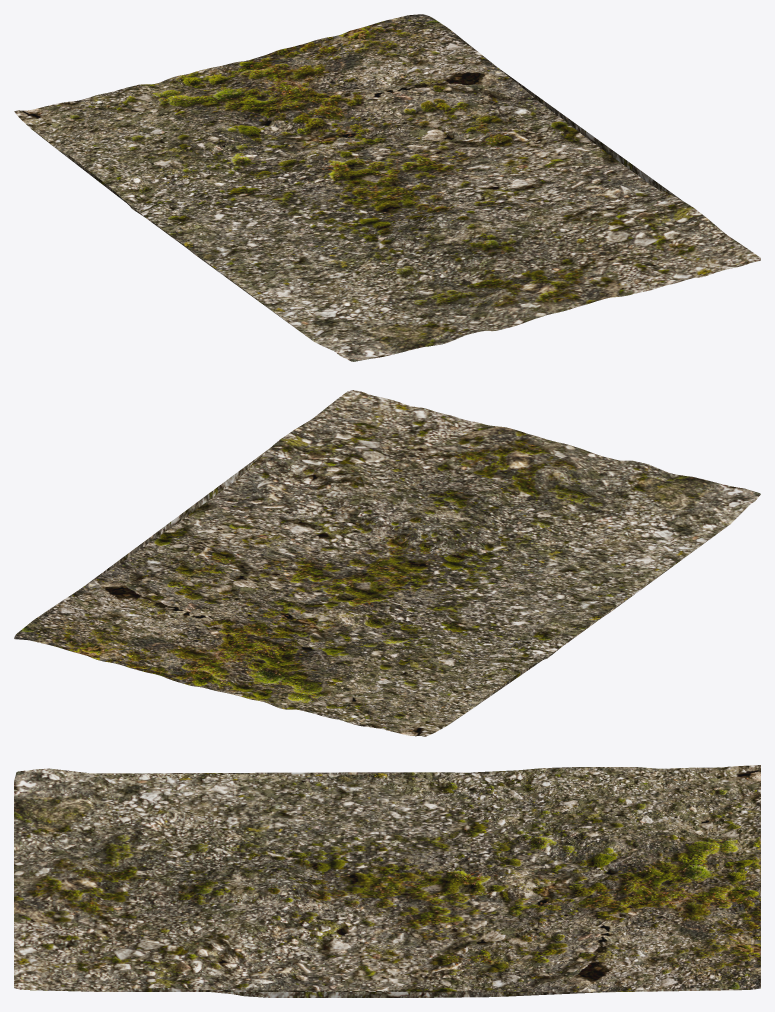
Rendered from riverbed.dae.
3 views of the same model, one above another, from view 1: azimuth 30°, elevation 25°; view 2: azimuth 150°, elevation 25°; view 3: azimuth 270°, elevation 25° (orthographic). The views are drawn at different scales.
Parts seen in each view (by area): view 1: riverbed; view 2: riverbed; view 3: riverbed.
Boxes of the visible parts, box(x1,y1,x2,y2) form: riverbed: box(14, 14, 760, 361); riverbed: box(14, 390, 760, 736); riverbed: box(14, 765, 760, 997).
Size of the model in its own units: 3001 by 4236 by 82.
Materials: 1 (1 with a texture image).
